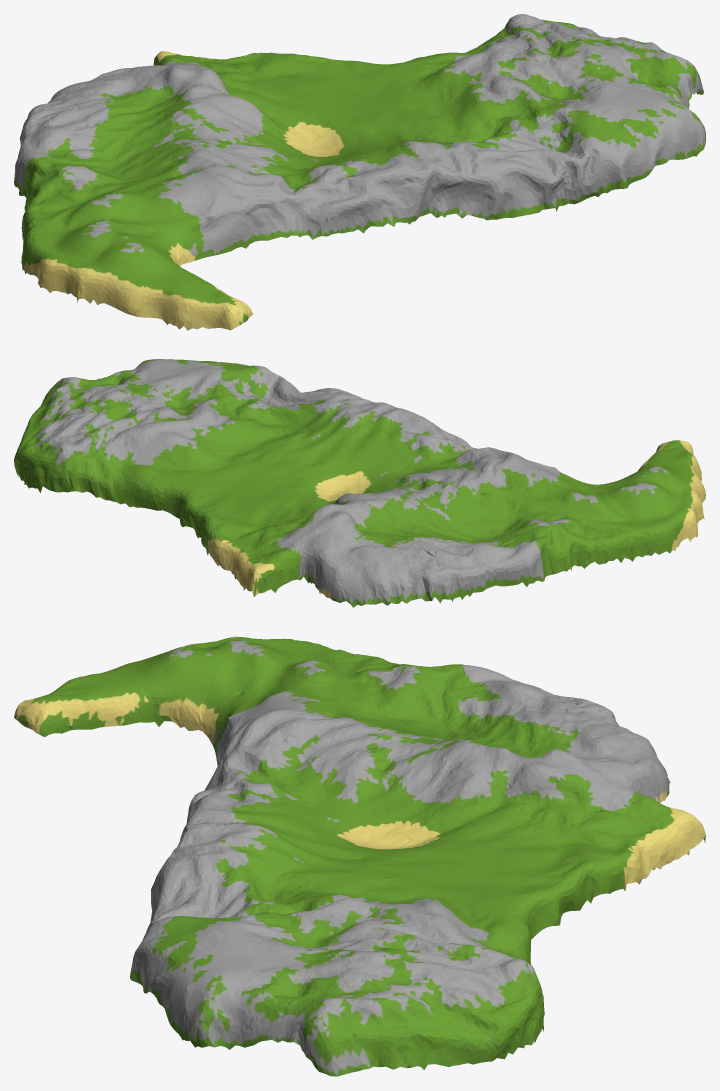
Rendered from island2.fbx.
3 renders of one model, top to bottom at view 1: azimuth 30°, elevation 25°; view 2: azimuth 150°, elevation 25°; view 3: azimuth 270°, elevation 25°, orthographic. The views are drawn at different scales.
Parts seen in each view (by area): view 1: island2_Baked; view 2: island2_Baked; view 3: island2_Baked.
Boxes of the visible parts, <box> form: island2_Baked: <box>14,14,705,330</box>; island2_Baked: <box>14,359,705,607</box>; island2_Baked: <box>14,636,705,1076</box>.
Size of the model in its own units: 579129 by 57885 by 411084.
Materials: 1 (1 with a texture image).
